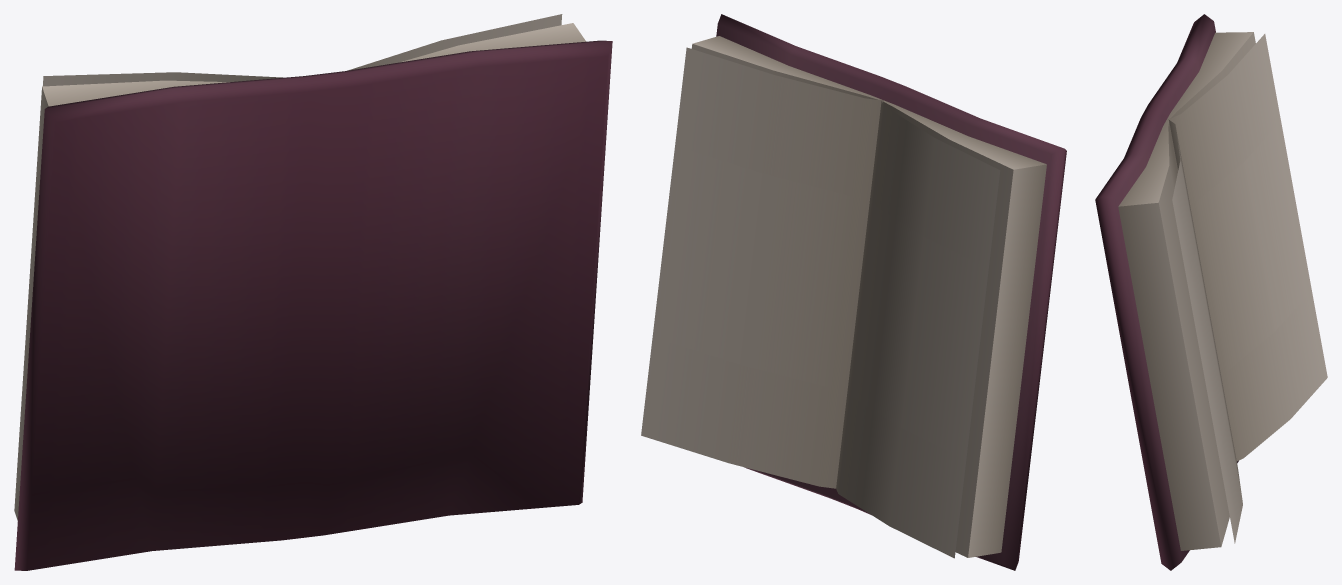
Rendered from Book_Holy_C.fbx.
3 renders of one model, left to right at view 1: azimuth 30°, elevation 25°; view 2: azimuth 150°, elevation 25°; view 3: azimuth 270°, elevation 25°, orthographic. The views are drawn at different scales.
Visible parts, largest first — view 1: Book_Holy_C; view 2: Book_Holy_C; view 3: Book_Holy_C.
Boxes of the visible parts, <box> form: Book_Holy_C: <box>14,14,612,570</box>; Book_Holy_C: <box>641,14,1066,570</box>; Book_Holy_C: <box>1095,14,1327,570</box>.
Size of the model in its own units: 212 by 198 by 112.
1 material, 1 textured.
